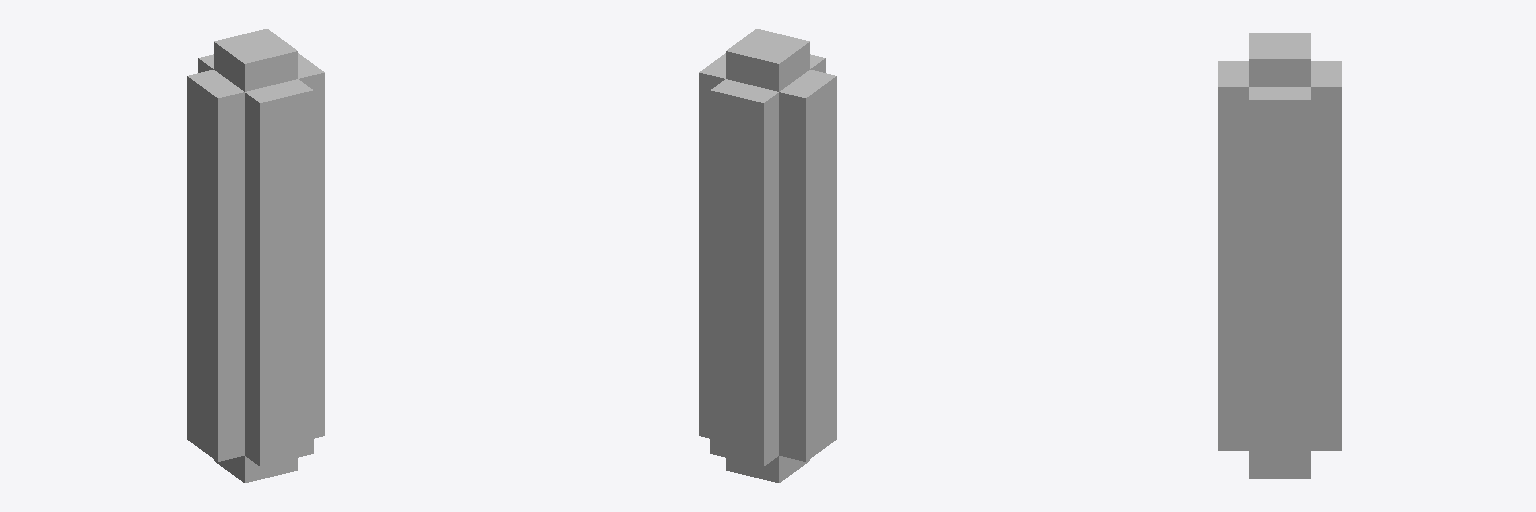
The model's file is Escenario 3 chocorramosurvivor-0-2.obj.
3 renders of one model, left to right at view 1: azimuth 30°, elevation 25°; view 2: azimuth 150°, elevation 25°; view 3: azimuth 270°, elevation 25°, orthographic.
Parts seen in each view (by area): view 1: Escenario_3_chocorramosurvivor-0-2; view 2: Escenario_3_chocorramosurvivor-0-2; view 3: Escenario_3_chocorramosurvivor-0-2.
Part boxes in pixels (left/top/right/bottom): Escenario_3_chocorramosurvivor-0-2: left=187, top=29, right=324, bottom=482; Escenario_3_chocorramosurvivor-0-2: left=699, top=29, right=836, bottom=482; Escenario_3_chocorramosurvivor-0-2: left=1218, top=33, right=1341, bottom=478.
Bounding box in the file's own units: 0.4 × 1.5 × 0.4.